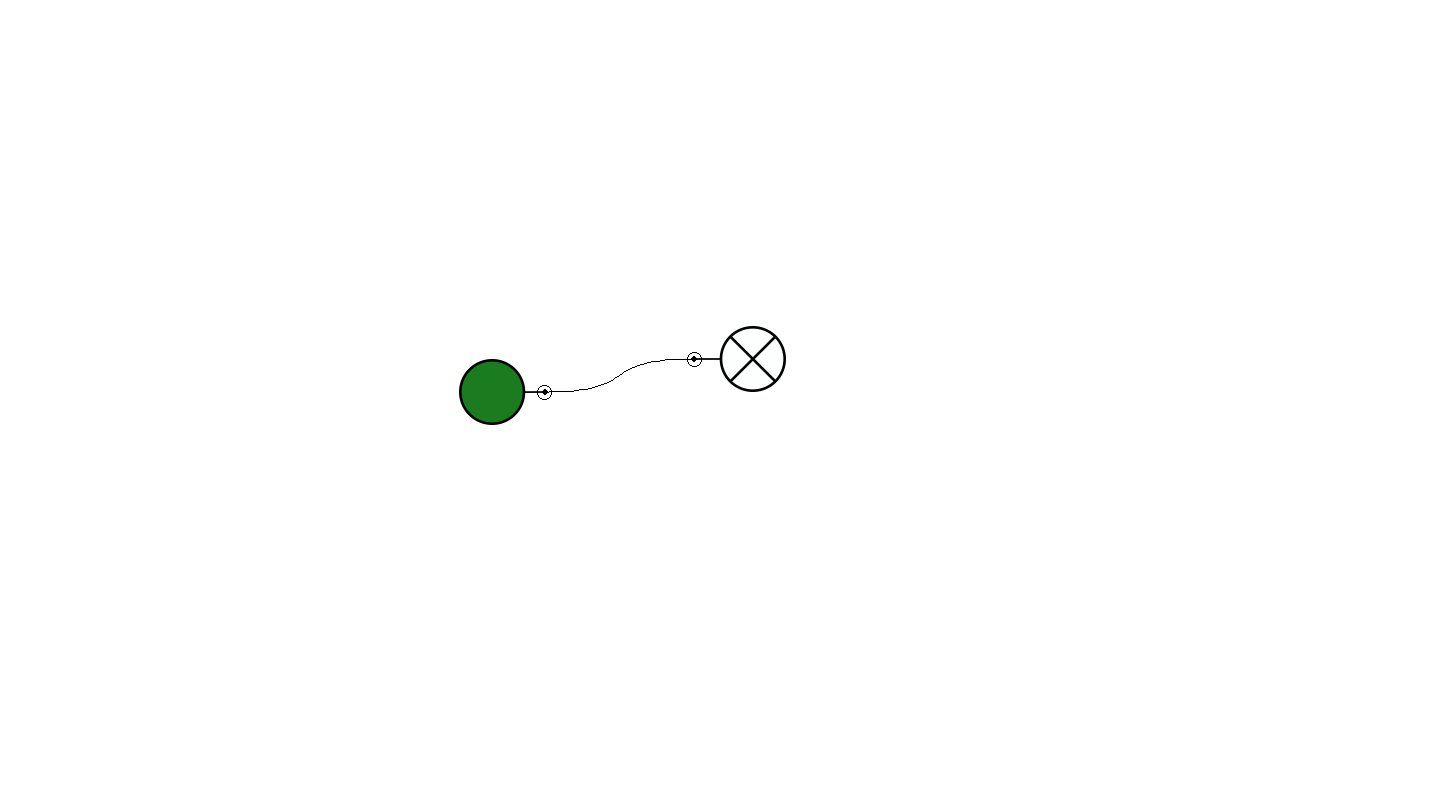bulb: (687, 326, 786, 392)
switch_True: (459, 359, 552, 425)
